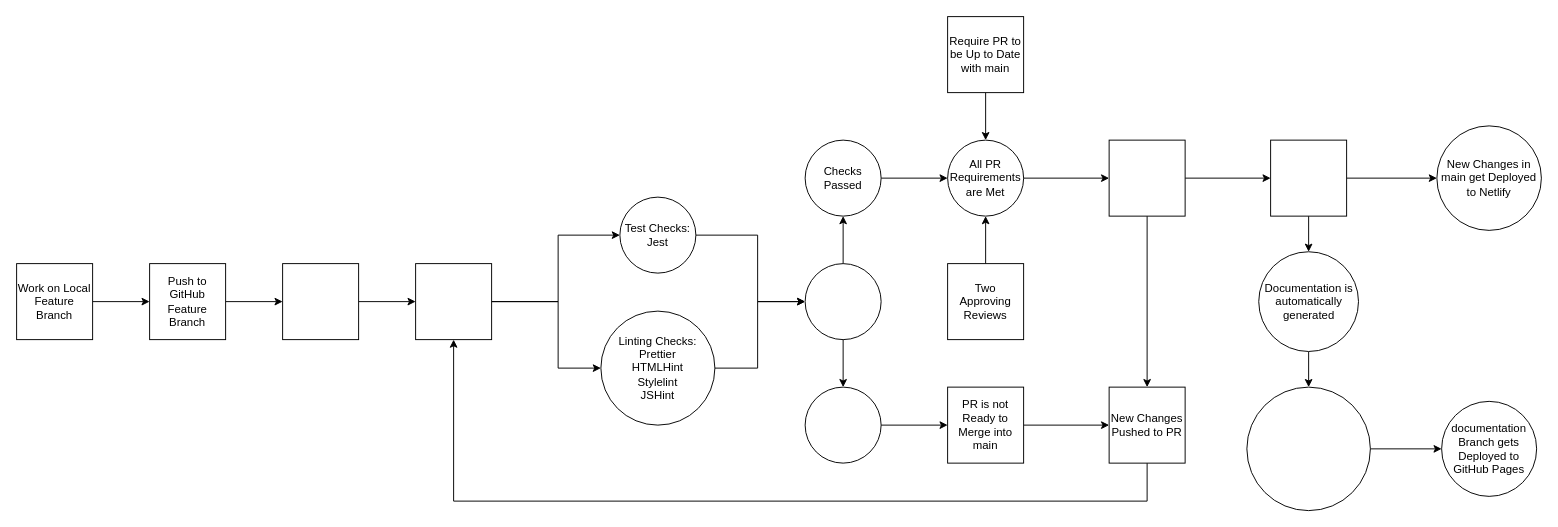
The diagram is 1558 pixels wide and 527 high, and some of its shapes have lost their labels. The box of each missing label's shape, as (x1, y1, x2, y2) in pixels:
Checks Failed: (804, 386, 881, 463)
Create PR to Merge Feature Branch into main: (282, 263, 359, 340)
New Documentation gets Pushed to documentation Branch: (1246, 386, 1370, 511)
PR is Merged into main Branch: (1270, 139, 1347, 216)
PR is Ready to Merge into main: (1108, 139, 1185, 216)
PR to Merge Feature Branch into main: (415, 263, 492, 340)
Report Status: (804, 263, 881, 340)
